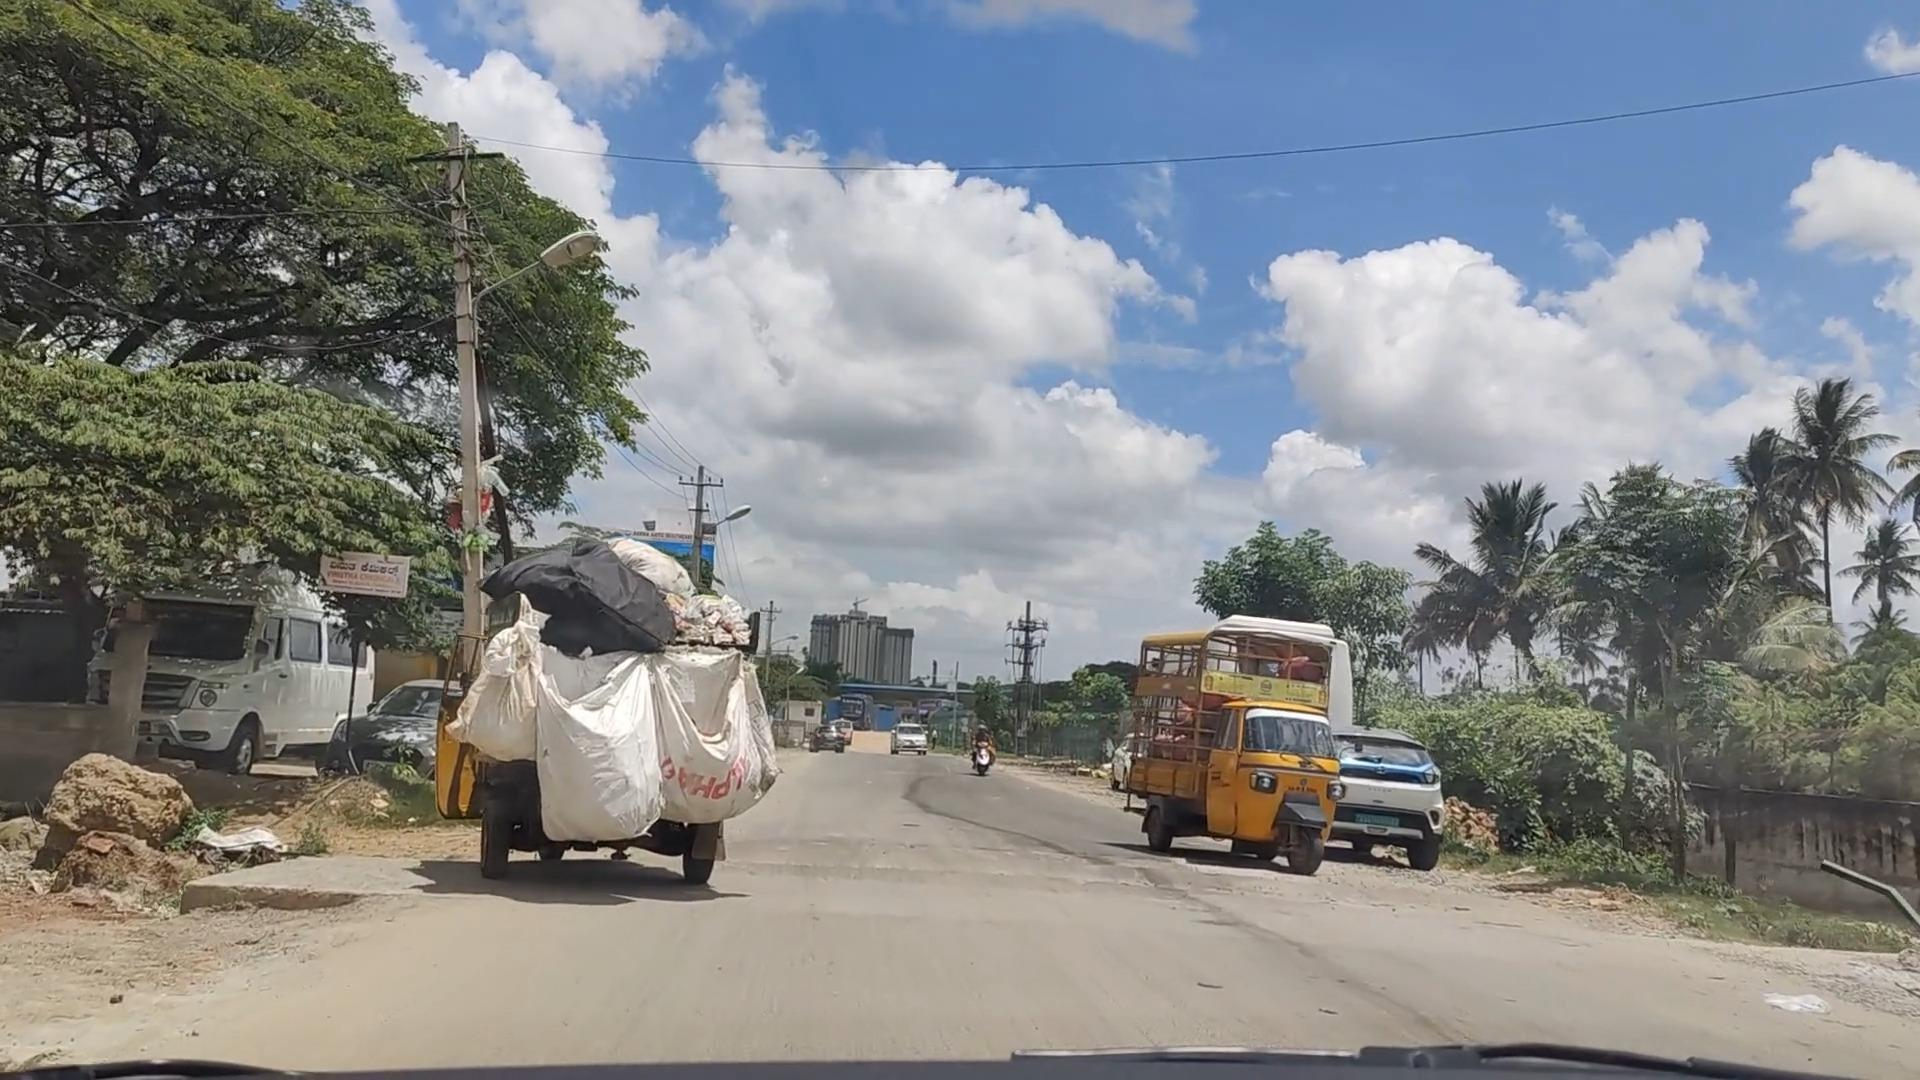HMV: (451, 558, 787, 906), (1102, 622, 1369, 886)
